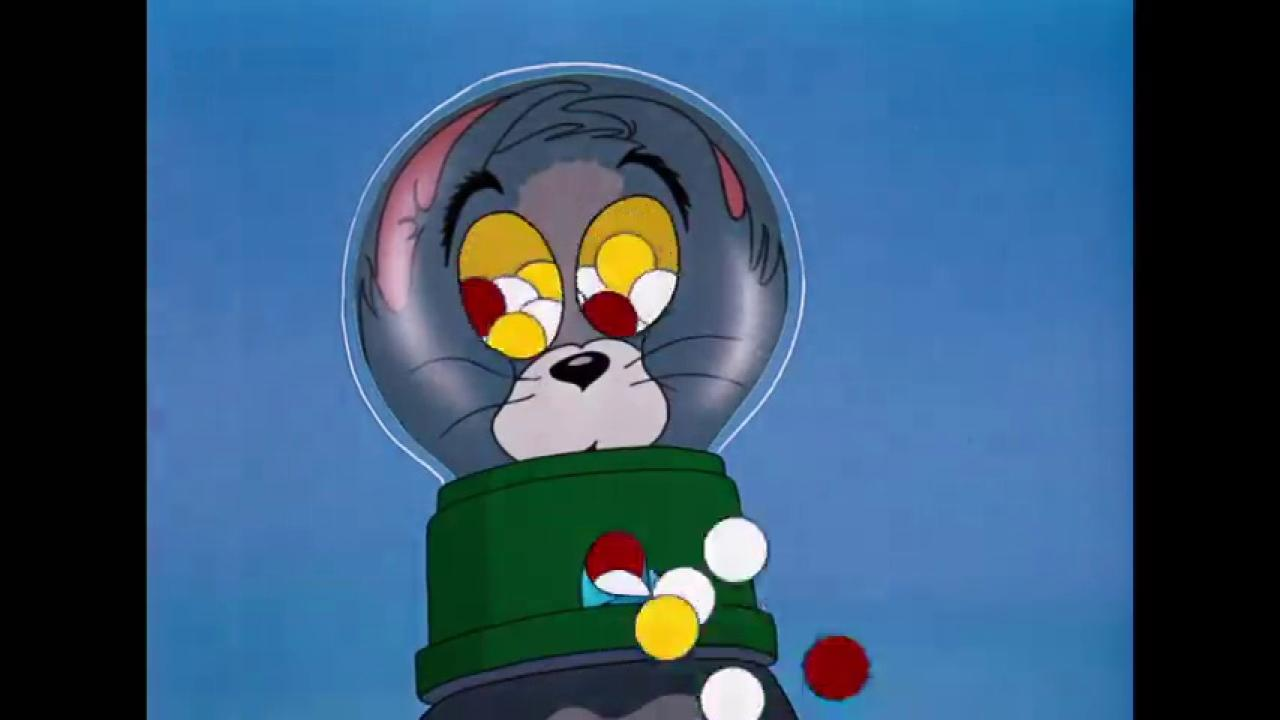Tom: (341, 61, 806, 720)
